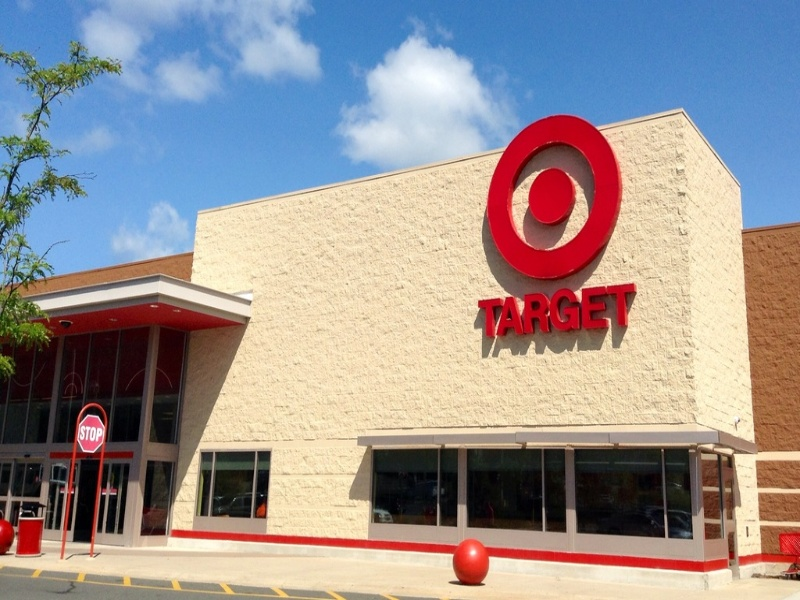stop: (74, 412, 105, 455)
